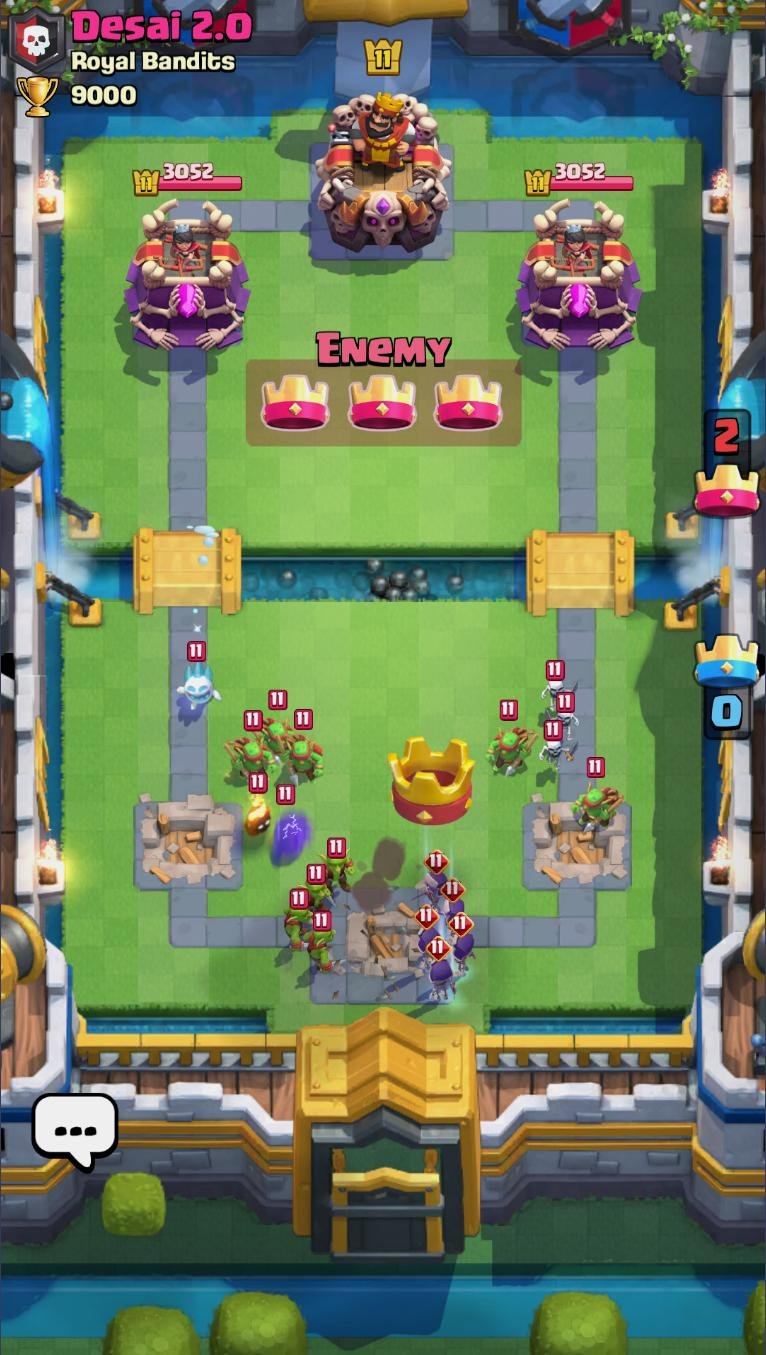ElectroSpirit: (269, 785, 311, 868)
EnemyTower: (124, 196, 252, 356), (515, 197, 643, 357)
EvoSkeleton: (419, 935, 461, 1001), (447, 912, 480, 983), (436, 877, 467, 938), (425, 850, 449, 912), (416, 905, 439, 959)
FireSpirit: (240, 772, 277, 844)
Goblin: (299, 917, 337, 984), (279, 896, 313, 954), (316, 845, 356, 892), (295, 872, 329, 916)
IceSpirit: (172, 641, 221, 717)
KingTower: (314, 90, 454, 255)
MyKingTowerBrocken: (306, 839, 461, 1009)
MyPrincessTowerBrocken: (522, 800, 635, 893), (132, 799, 242, 892)
PrincessTower: (158, 222, 212, 278), (550, 220, 602, 273)
Skeleton: (535, 659, 582, 710), (535, 720, 576, 777), (544, 690, 577, 748)
SpearGoblin: (491, 701, 544, 781), (577, 760, 630, 837), (225, 713, 269, 784), (281, 712, 324, 784), (253, 689, 293, 756)
TowerPrincessHP: (524, 161, 639, 197), (132, 162, 245, 196)
